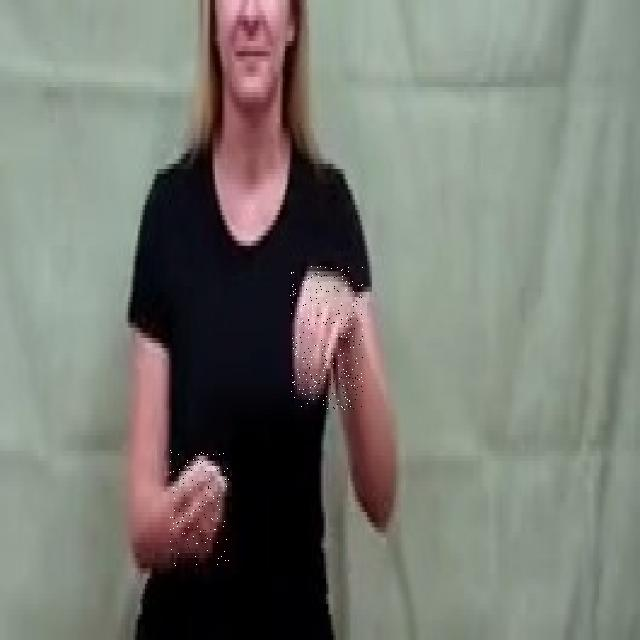ingredients: (290, 266, 363, 410), (170, 450, 229, 567)
